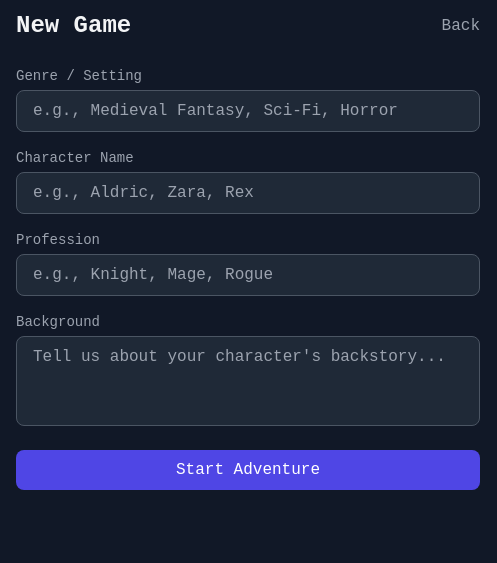
Test: NewGamePage › shows fallback error message when error has no message
Step 1. Type "Fantasy" into the field labelled "Genre / Setting" → {"x": 248, "y": 111}, box [16,90,480,132]
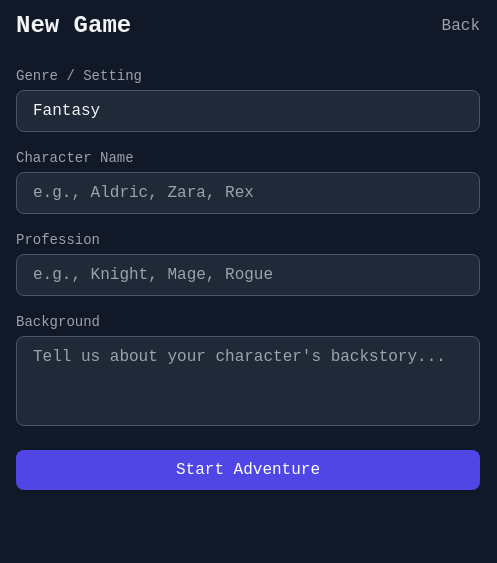
Step 2. Type "A" into the field labelled "Character Name" → {"x": 248, "y": 193}, box [16,172,480,214]
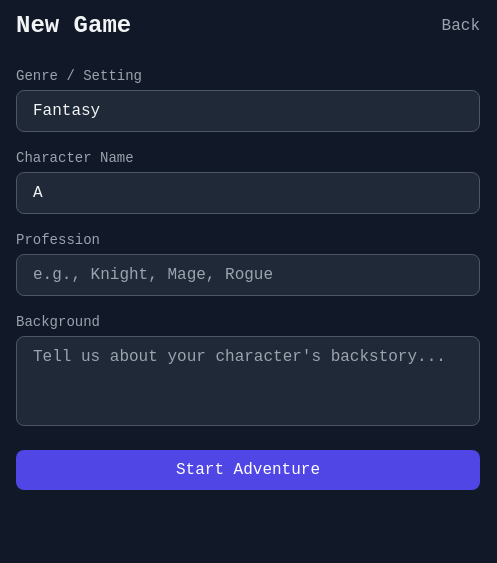
Step 3. Type "B" into the field labelled "Profession" → {"x": 248, "y": 275}, box [16,254,480,296]
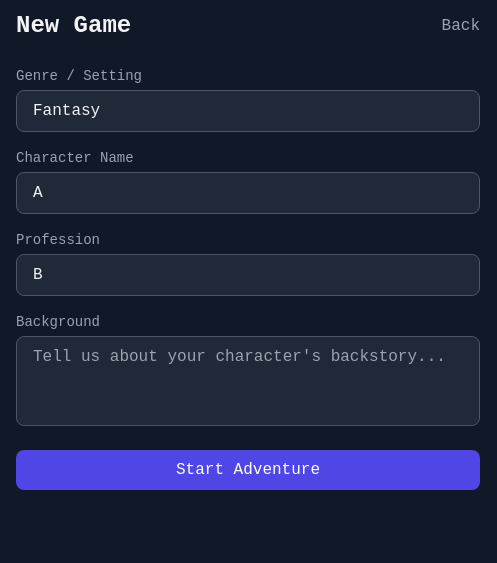
Step 4. Type "C" into the text box labelled "Background" → {"x": 248, "y": 381}, box [16,336,480,426]
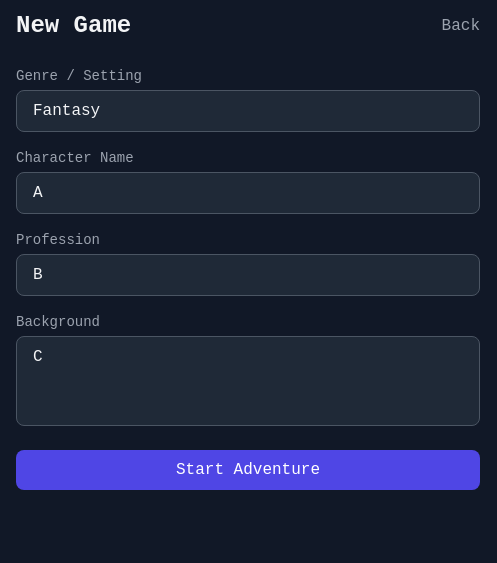
Step 5. Click the button "Start Adventure" → {"x": 248, "y": 470}, box [16,450,480,490]
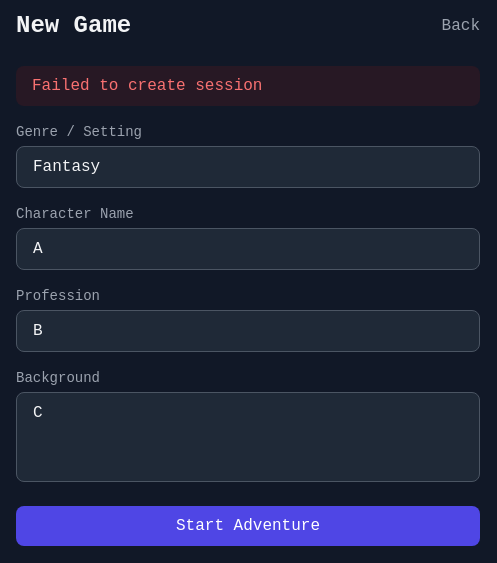
Expected: the text "Failed to create session" is shown, [16,66,480,106]
